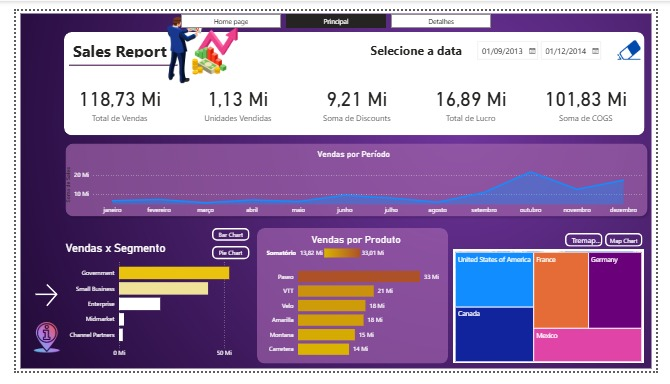

This screenshot's page, from the dashboard's own definition file:
{"tool":"powerbi","page":{"name":"Principal","canvas":[1280,720],"ordinal":1},"visuals":[{"type":"image","title":"fundo_purple","box":[0,0,1280.3,720],"z":0},{"type":"shape","box":[95.8,41.1,1161.3,206.6],"z":0,"group":"g4"},{"type":"shape","box":[90.5,255.5,1181.8,163.7],"z":0,"group":"g3"},{"type":"map","title":"Sales x Country","fields":{"Category":["financials.Country"],"Size":["Sum(financials. Sales)"]},"box":[873.8,476.1,382,228.1],"z":0,"group":"g1"},{"type":"shape","box":[105.6,92.3,216.7,32.8],"z":1000,"group":"g4"},{"type":"areaChart","title":"Vendas por Período","fields":{"Category":["financials.Date.Variation.Hierarquia de datas.Trimestre","financials.Date.Variation.Hierarquia de datas.Mês"],"Y":["Sum(financials. Sales)"]},"box":[94.3,274.7,1163.2,139.7],"z":1000,"group":"g3"},{"type":"clusteredBarChart","title":"Vendas x Segmento","fields":{"Category":["financials.Segment"],"Y":["Sum(financials. Sales)"]},"box":[94.9,459.3,383.9,242.3],"z":1000,"group":"g2"},{"type":"treemap","title":"Sales x Country","fields":{"Group":["financials.Country"],"Values":["Sum(financials. Sales)"]},"box":[873.8,477.5,382,228.1],"z":1000,"group":"g1"},{"type":"actionButton","title":"Botão - Next","box":[32.4,539.2,58,56.3],"z":1000},{"type":"slicer","fields":{"Values":["financials.Date"]},"box":[909.9,50.5,272.2,55.6],"z":2000,"group":"g4"},{"type":"actionButton","title":"Botão - bar","box":[393.4,432.9,75.1,25.6],"z":2000,"group":"g2"},{"type":"shape","box":[482.9,433.4,382.2,271.3],"z":2000},{"type":"actionButton","title":"Botão - map","box":[1177.5,444.2,75.1,27.3],"z":2000,"group":"g1"},{"type":"textbox","box":[704.6,56.2,199.6,45.6],"z":3000,"group":"g4"},{"type":"group","id":"g1","title":"Sales x país","box":[873.8,444.2,382,261.4],"z":3000},{"type":"actionButton","title":"Botão - tremap","box":[1097.3,444.2,75.1,27.3],"z":3000,"group":"g1"},{"type":"actionButton","title":"Botão -pie","box":[393.2,469.1,74.8,26.6],"z":3000,"group":"g2"},{"type":"card","fields":{"Values":["Sum(financials.Units Sold)"]},"box":[338.3,130.3,211,105.5],"z":4000,"group":"g4"},{"type":"clusteredBarChart","title":"Vendas por Produto","fields":{"Category":["financials.Product"],"Y":["Sum(financials. Sales)"]},"box":[496.5,443.6,368.5,261.1],"z":4000},{"type":"textbox","box":[107,50.9,215.2,48.5],"z":5000,"group":"g4"},{"type":"group","id":"g2","title":"Sales x Segmento","box":[94.9,429.7,387.6,271.8],"z":5000},{"type":"actionButton","box":[1196.4,54.7,59.9,51.3],"z":6000,"group":"g4"},{"type":"group","id":"g3","title":"Perspectiva temporal das vendas","box":[90.5,255.5,1181.8,163.7],"z":6000},{"type":"group","id":"g4","title":"Filtro por data","box":[95.8,0,1161.8,247.5],"z":7000},{"type":"card","fields":{"Values":["Sum(financials.Profit)"]},"box":[804.4,130.3,211,105.5],"z":7000,"group":"g4"},{"type":"image","title":"clean","box":[1196.4,50.5,59.9,55.6],"z":8000,"group":"g4"},{"type":"image","box":[26.1,615.8,71.5,72.9],"z":8000},{"type":"card","fields":{"Values":["Sum(financials.Discounts)"]},"box":[574.9,130.3,211,105.5],"z":9000,"group":"g4"},{"type":"actionButton","box":[31.6,615.8,63.2,72.9],"z":9000},{"type":"pageNavigator","box":[330,6,620,28],"z":10000},{"type":"card","fields":{"Values":["Sum(financials.COGS)"]},"box":[1033.9,130.3,211,105.5],"z":10000,"group":"g4"},{"type":"card","fields":{"Values":["Sum(financials. Sales)"]},"box":[101.7,130.3,211,105.5],"z":11000,"group":"g4"},{"type":"image","box":[265.1,0,252.9,155.7],"z":12000,"group":"g4"}]}

Visuals, with their boxes on the page's 1280x720 design canvas (x1, y1, x2, y2). These are canvas units, not pixel positions in the 670x384 screenshot, which may show the page scaled, cropped or inside an application window:
"fundo_purple" image: [left=0, top=0, right=1280, bottom=720]
shape: [left=96, top=41, right=1257, bottom=248]
shape: [left=90, top=256, right=1272, bottom=419]
"Sales x Country" map: [left=874, top=476, right=1256, bottom=704]
shape: [left=106, top=92, right=322, bottom=125]
"Vendas por Período" areaChart: [left=94, top=275, right=1258, bottom=414]
"Vendas x Segmento" clusteredBarChart: [left=95, top=459, right=479, bottom=702]
"Sales x Country" treemap: [left=874, top=478, right=1256, bottom=706]
"Botão - Next" actionButton: [left=32, top=539, right=90, bottom=596]
slicer - financials.Date: [left=910, top=50, right=1182, bottom=106]
"Botão - bar" actionButton: [left=393, top=433, right=468, bottom=458]
shape: [left=483, top=433, right=865, bottom=705]
"Botão - map" actionButton: [left=1178, top=444, right=1253, bottom=472]
textbox: [left=705, top=56, right=904, bottom=102]
"Sales x país" group: [left=874, top=444, right=1256, bottom=706]
"Botão - tremap" actionButton: [left=1097, top=444, right=1172, bottom=472]
"Botão -pie" actionButton: [left=393, top=469, right=468, bottom=496]
card - Sum(financials.Units Sold): [left=338, top=130, right=549, bottom=236]
"Vendas por Produto" clusteredBarChart: [left=496, top=444, right=865, bottom=705]
textbox: [left=107, top=51, right=322, bottom=99]
"Sales x Segmento" group: [left=95, top=430, right=482, bottom=702]
actionButton: [left=1196, top=55, right=1256, bottom=106]
"Perspectiva temporal das vendas" group: [left=90, top=256, right=1272, bottom=419]
"Filtro por data" group: [left=96, top=0, right=1258, bottom=248]
card - Sum(financials.Profit): [left=804, top=130, right=1015, bottom=236]
"clean" image: [left=1196, top=50, right=1256, bottom=106]
image: [left=26, top=616, right=98, bottom=689]
card - Sum(financials.Discounts): [left=575, top=130, right=786, bottom=236]
actionButton: [left=32, top=616, right=95, bottom=689]
pageNavigator: [left=330, top=6, right=950, bottom=34]
card - Sum(financials.COGS): [left=1034, top=130, right=1245, bottom=236]
card - Sum(financials. Sales): [left=102, top=130, right=313, bottom=236]
image: [left=265, top=0, right=518, bottom=156]
